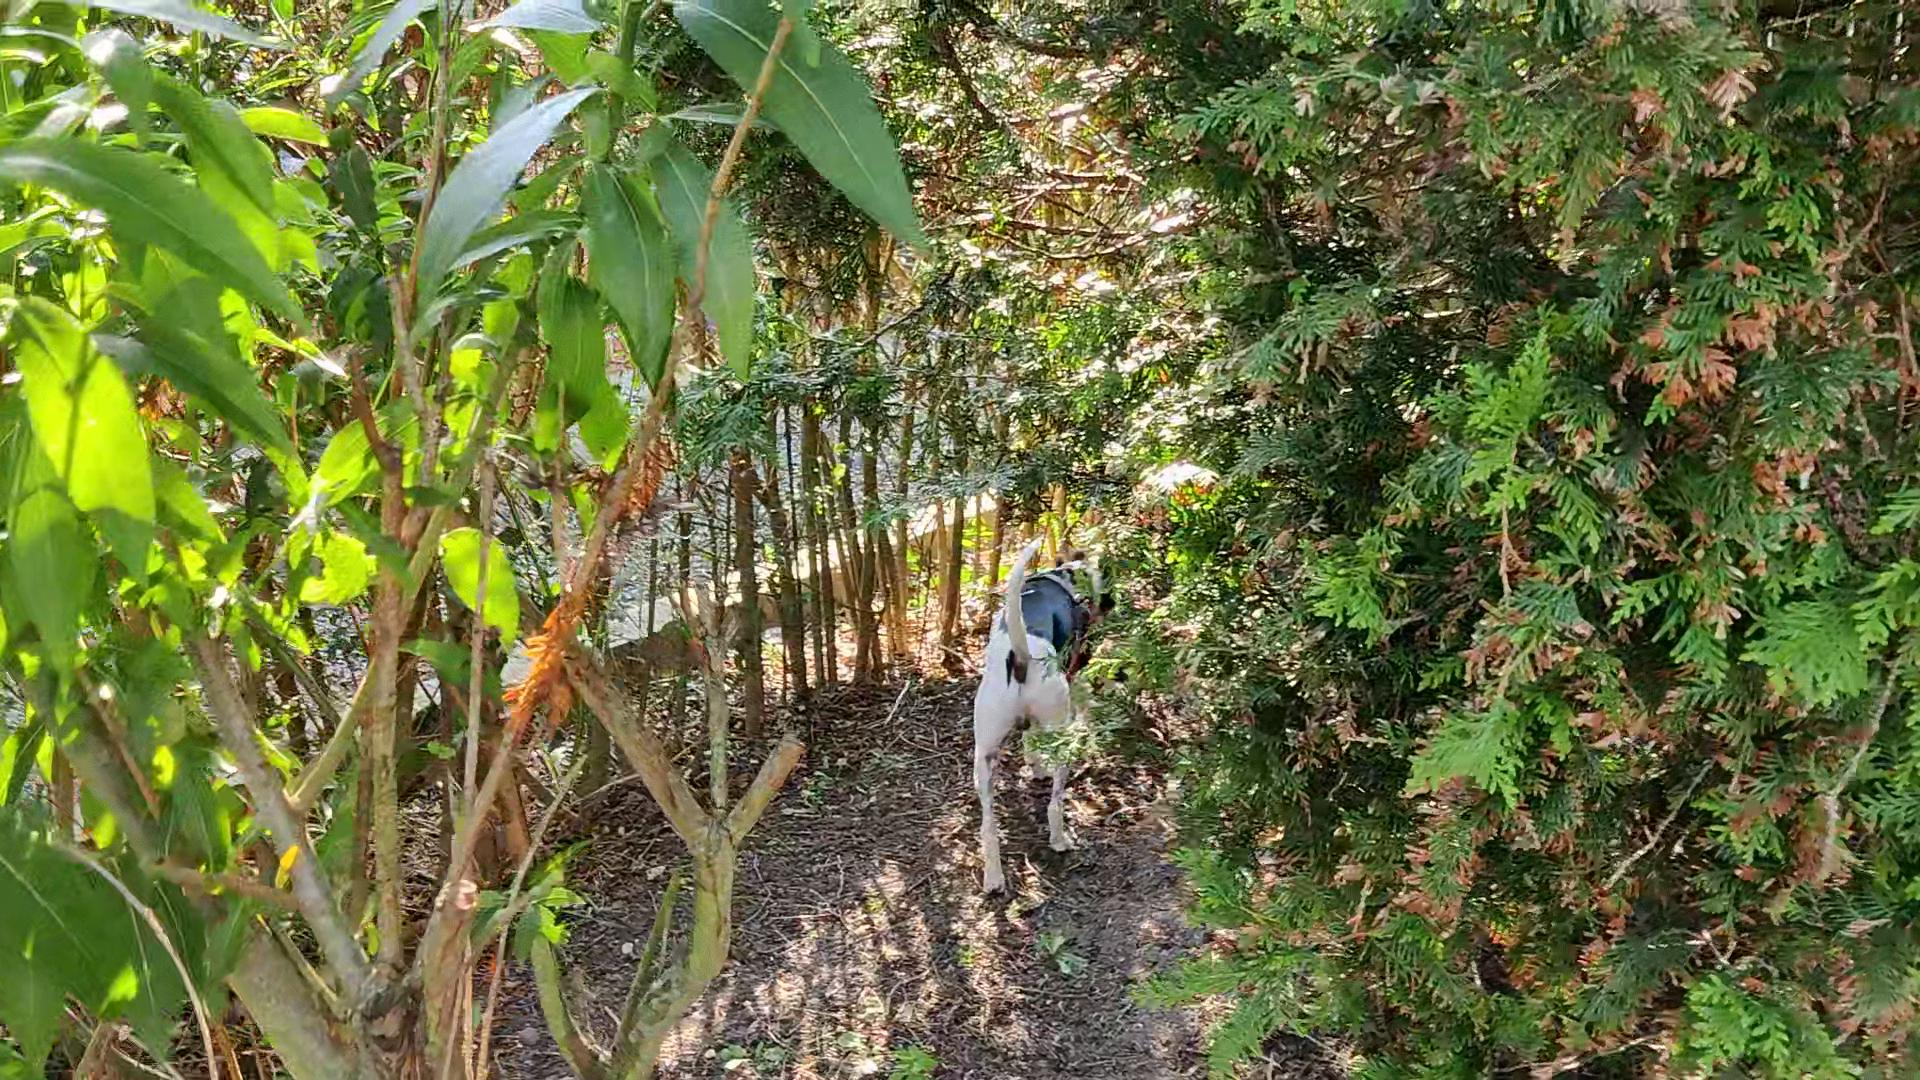Dog: (964, 522, 1134, 909)
